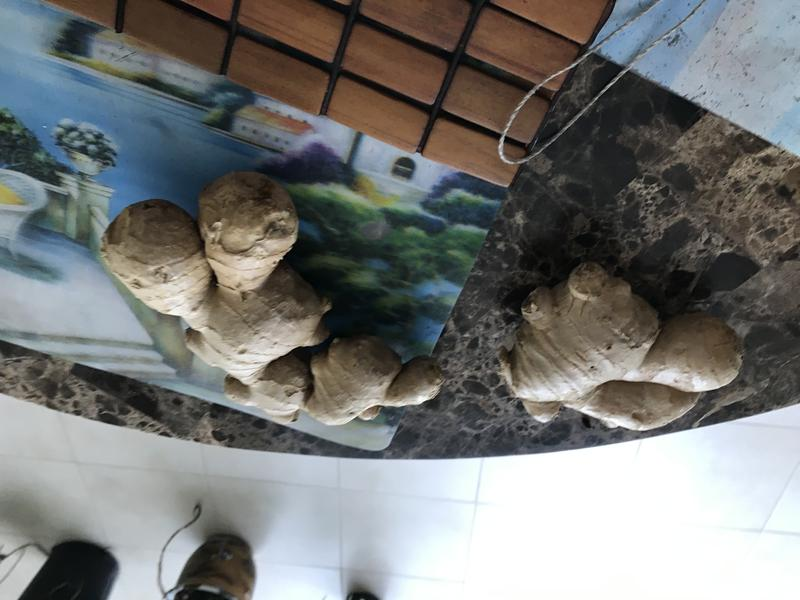ginger: (93, 167, 448, 443), (487, 258, 748, 445)
